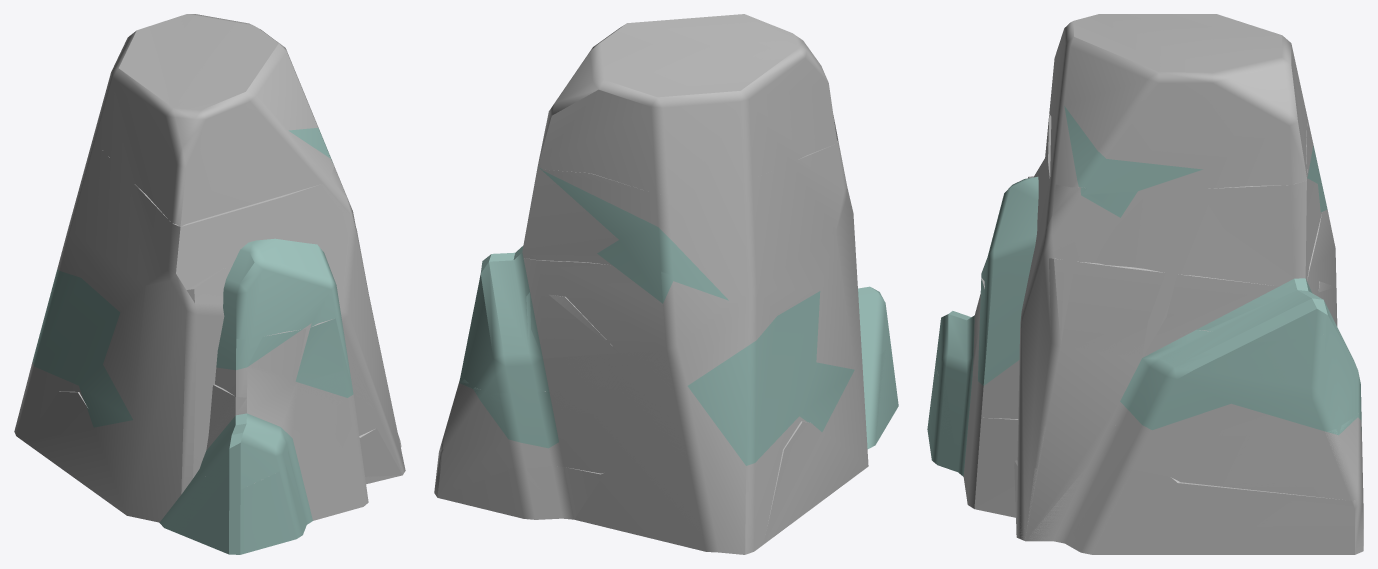
File: WinterStoneV2.fbx
3 views of the same model, side by side, from view 1: azimuth 30°, elevation 25°; view 2: azimuth 150°, elevation 25°; view 3: azimuth 270°, elevation 25° (orthographic). The views are drawn at different scales.
Parts seen in each view (by area): view 1: WinterStoneV2_1, WinterStoneV2_2, WinterStoneV2_3, WinterStoneV2_5, WinterStoneV2_4, WinterStoneV2_6; view 2: WinterStoneV2_1, WinterStoneV2_3, WinterStoneV2_2, WinterStoneV2_6, WinterStoneV2_5, WinterStoneV2_4; view 3: WinterStoneV2_1, WinterStoneV2_3, WinterStoneV2_6, WinterStoneV2_5, WinterStoneV2_2, WinterStoneV2_4.
Part boxes in pixels (x1,y1,x2,y2): WinterStoneV2_1: (14,14,368,554); WinterStoneV2_2: (102,150,398,482); WinterStoneV2_3: (186,228,405,484); WinterStoneV2_5: (159,369,405,554); WinterStoneV2_4: (206,314,396,459); WinterStoneV2_6: (26,391,402,479); WinterStoneV2_1: (480,14,898,554); WinterStoneV2_3: (434,253,705,551); WinterStoneV2_2: (440,140,854,549); WinterStoneV2_6: (439,421,821,543); WinterStoneV2_5: (460,350,898,547); WinterStoneV2_4: (460,292,705,550); WinterStoneV2_1: (932,14,1361,517); WinterStoneV2_3: (978,176,1363,554); WinterStoneV2_6: (1014,460,1363,554); WinterStoneV2_5: (927,365,1361,553); WinterStoneV2_2: (1021,114,1363,545); WinterStoneV2_4: (972,281,1357,516).
Bounding box in the file's own units: 1.25 × 1.69 × 1.54.
